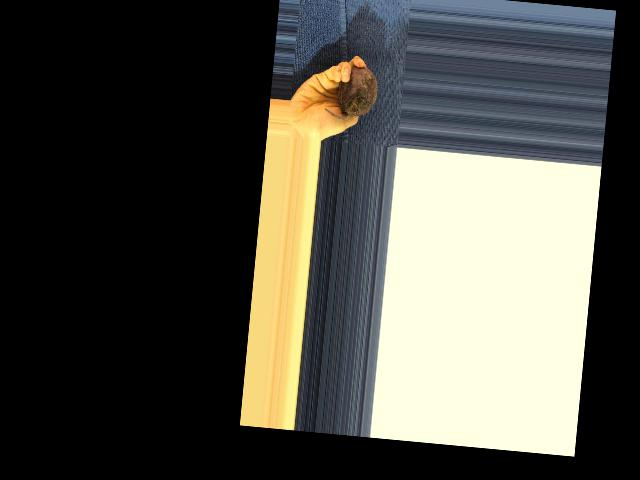beet: (323, 63, 379, 122)
